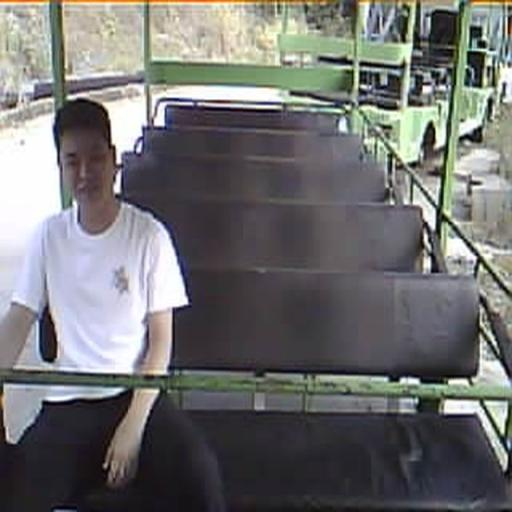persona: (1, 96, 226, 510)
